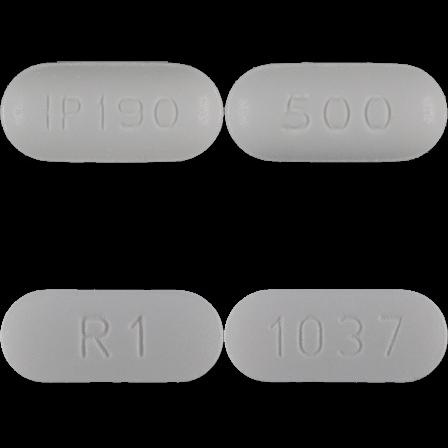21695-086: (0, 0, 224, 224)
